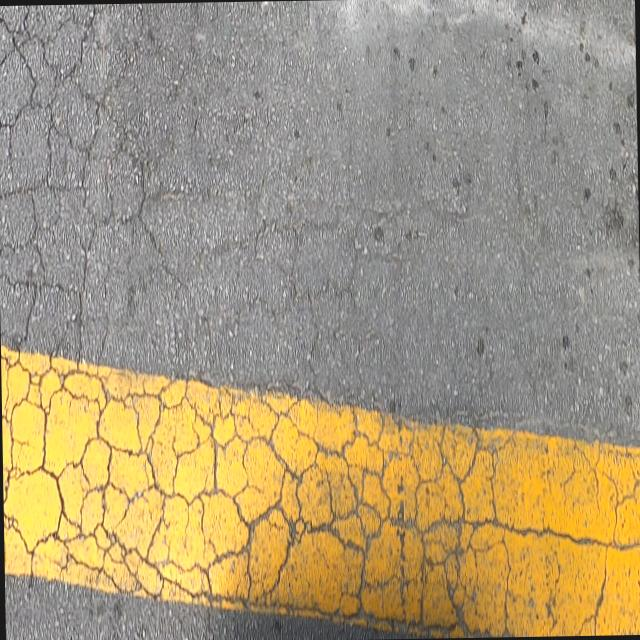Retak-Buaya: (0, 6, 517, 636)
